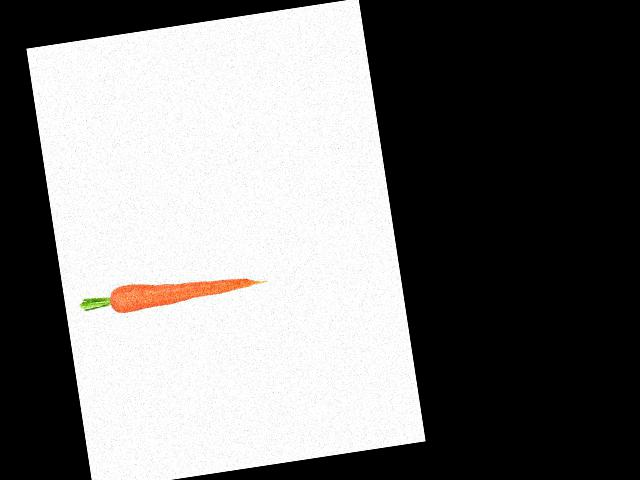carrot: (103, 258, 268, 320)
